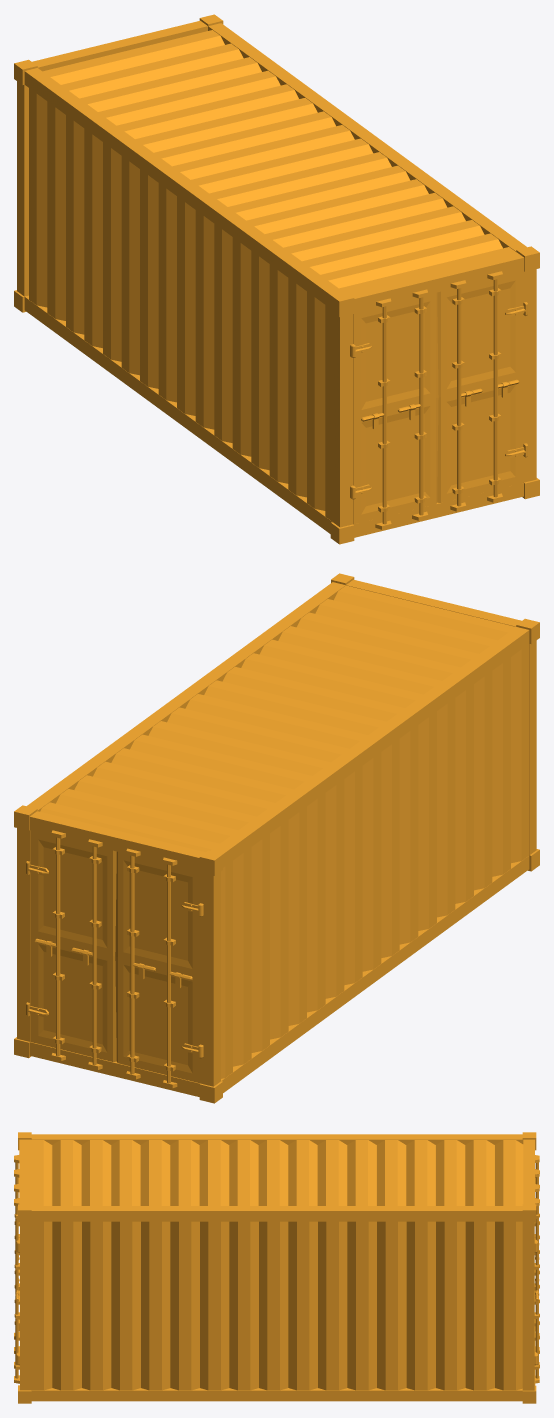
Rendered from SM_Container_Small.fbx.
The picture shows the model from 3 angles, top to bottom: view 1: azimuth 30°, elevation 25°; view 2: azimuth 150°, elevation 25°; view 3: azimuth 270°, elevation 25°; orthographic projection. The views are drawn at different scales.
Visible parts, largest first — view 1: SM_Container_Small_Base, SM_Container_Small_Door_LF, SM_Container_Small_Door_RF; view 2: SM_Container_Small_Base, SM_Container_Small_Door_LB, SM_Container_Small_Door_RB; view 3: SM_Container_Small_Base, SM_Container_Small_Door_LB, SM_Container_Small_Door_LF.
Part boxes in pixels (x1,y1,x2,y2): SM_Container_Small_Base: (14,14,539,544); SM_Container_Small_Door_LF: (437,271,527,506); SM_Container_Small_Door_RF: (350,292,438,524); SM_Container_Small_Base: (14,573,539,1103); SM_Container_Small_Door_LB: (26,830,116,1065); SM_Container_Small_Door_RB: (115,851,203,1083); SM_Container_Small_Base: (14,1132,539,1403); SM_Container_Small_Door_LB: (534,1191,539,1378); SM_Container_Small_Door_LF: (14,1191,19,1378).
Bounding box in the file's own units: 2.69 × 3.12 × 7.67.
